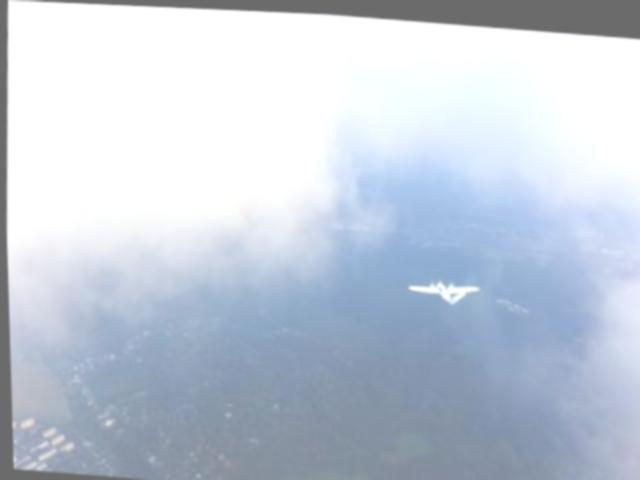uav: (404, 270, 480, 306)
